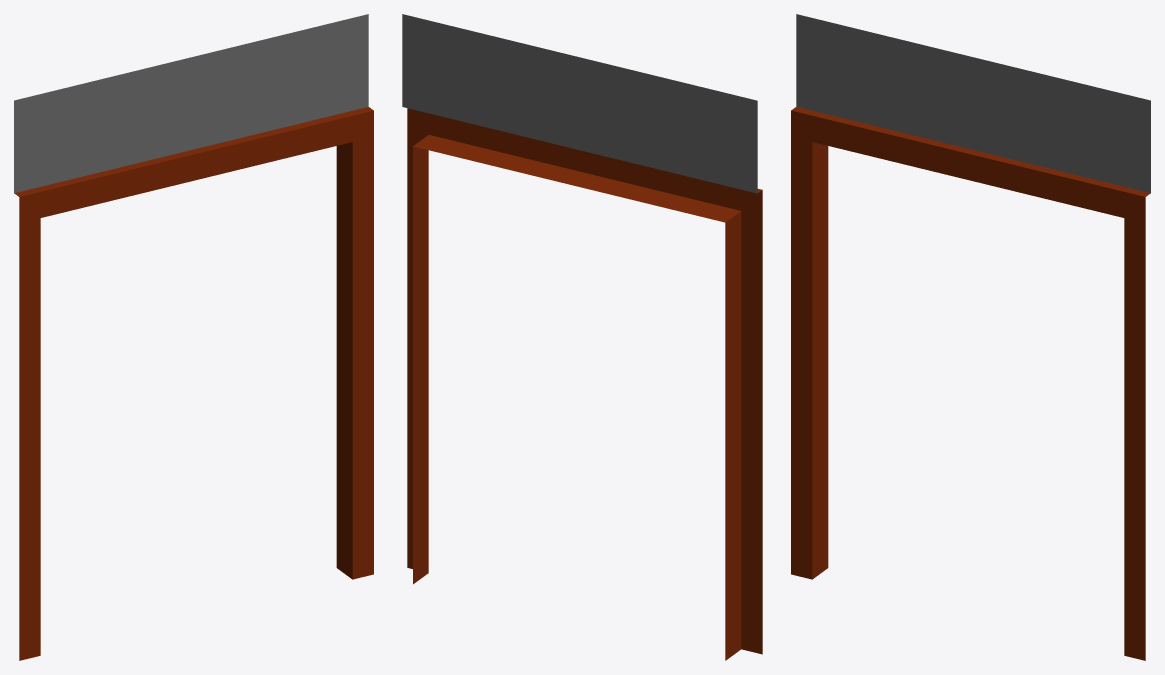
The model's file is Wall Door.fbx.
The picture shows the model from 3 angles, left to right: view 1: azimuth 30°, elevation 25°; view 2: azimuth 150°, elevation 25°; view 3: azimuth 330°, elevation 25°; orthographic projection.
Visible parts, largest first — view 1: Plane.079; view 2: Plane.079; view 3: Plane.079.
Part boxes in pixels (box(x1,y1,x2,y2)): Plane.079: box(14, 14, 373, 660); Plane.079: box(402, 14, 762, 660); Plane.079: box(791, 14, 1150, 660).
Bounding box in the file's own units: 4 × 6 × 0.3103.
